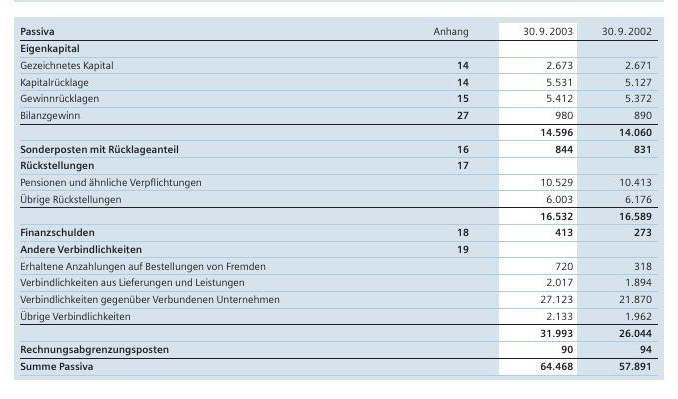table: (0, 0, 678, 399)
